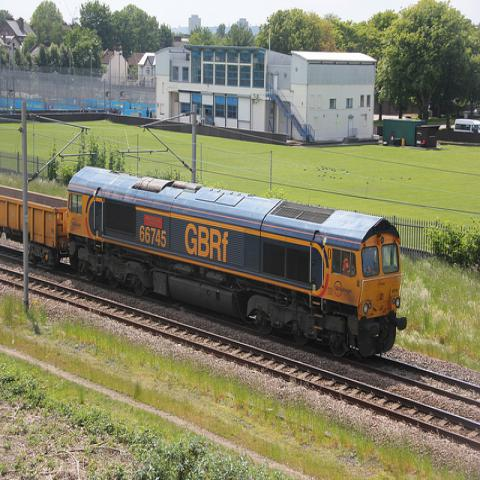car: (454, 118, 479, 134)
truck: (454, 118, 479, 133)
